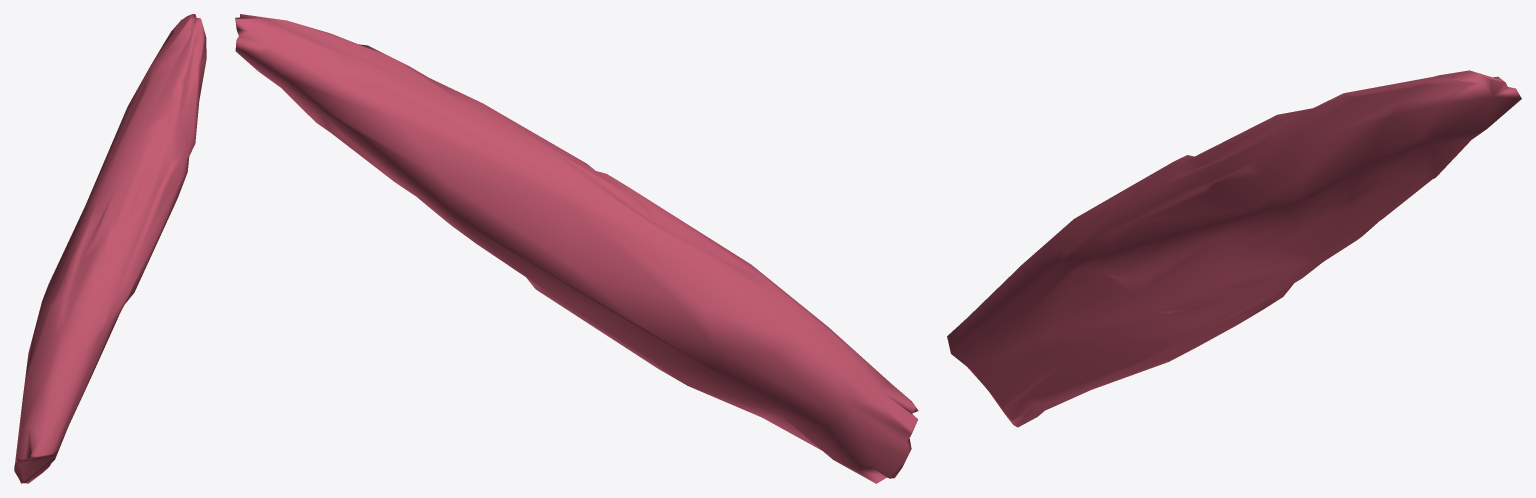
3 views of the same model, side by side, from view 1: azimuth 30°, elevation 25°; view 2: azimuth 150°, elevation 25°; view 3: azimuth 270°, elevation 25° (orthographic). The views are drawn at different scales.
Visible parts, largest first — view 1: 右侧头下斜肌; view 2: 右侧头下斜肌; view 3: 右侧头下斜肌.
Boxes of the visible parts, x1,y1,x2,y2 form: 右侧头下斜肌: [14, 14, 206, 483]; 右侧头下斜肌: [235, 14, 918, 483]; 右侧头下斜肌: [947, 70, 1521, 427].
Bounding box in the file's own units: 0.057 × 0.0557 × 0.0464.
